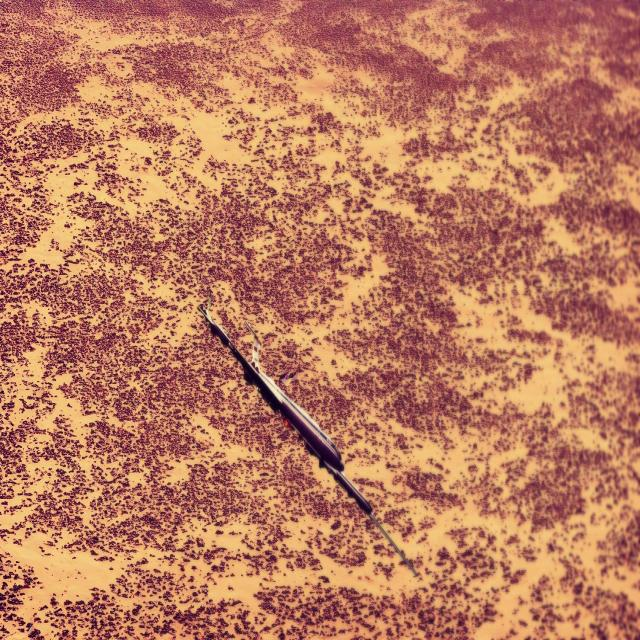airplane: (198, 296, 418, 577)
